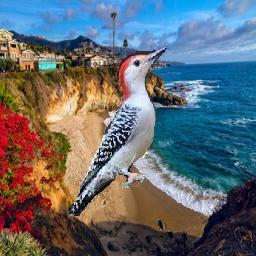Woodpecker: (65, 44, 169, 216)
